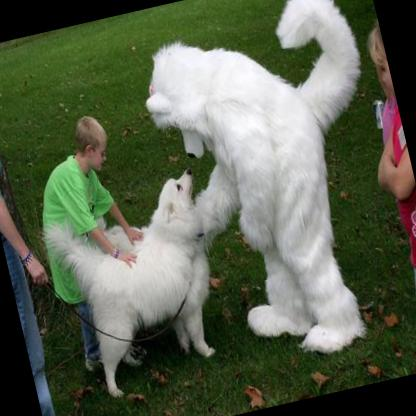Samoyed: (35, 164, 238, 407)
